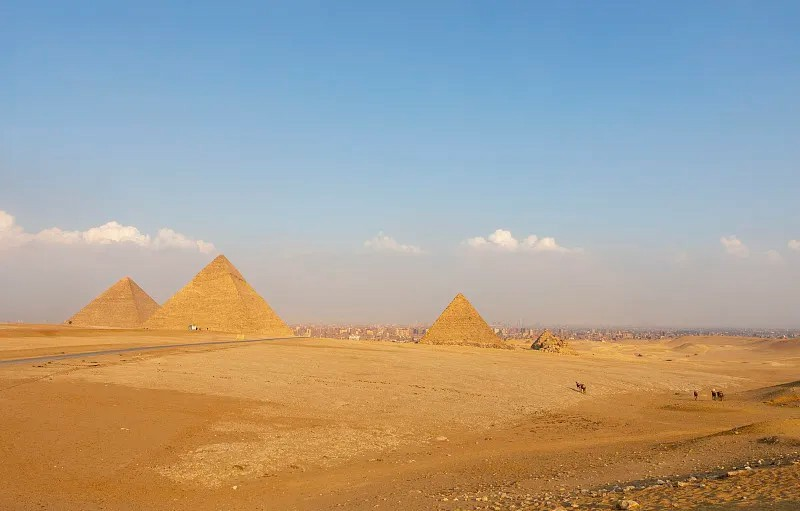Pyramid: (139, 255, 296, 337), (61, 276, 163, 326), (418, 291, 504, 344)
